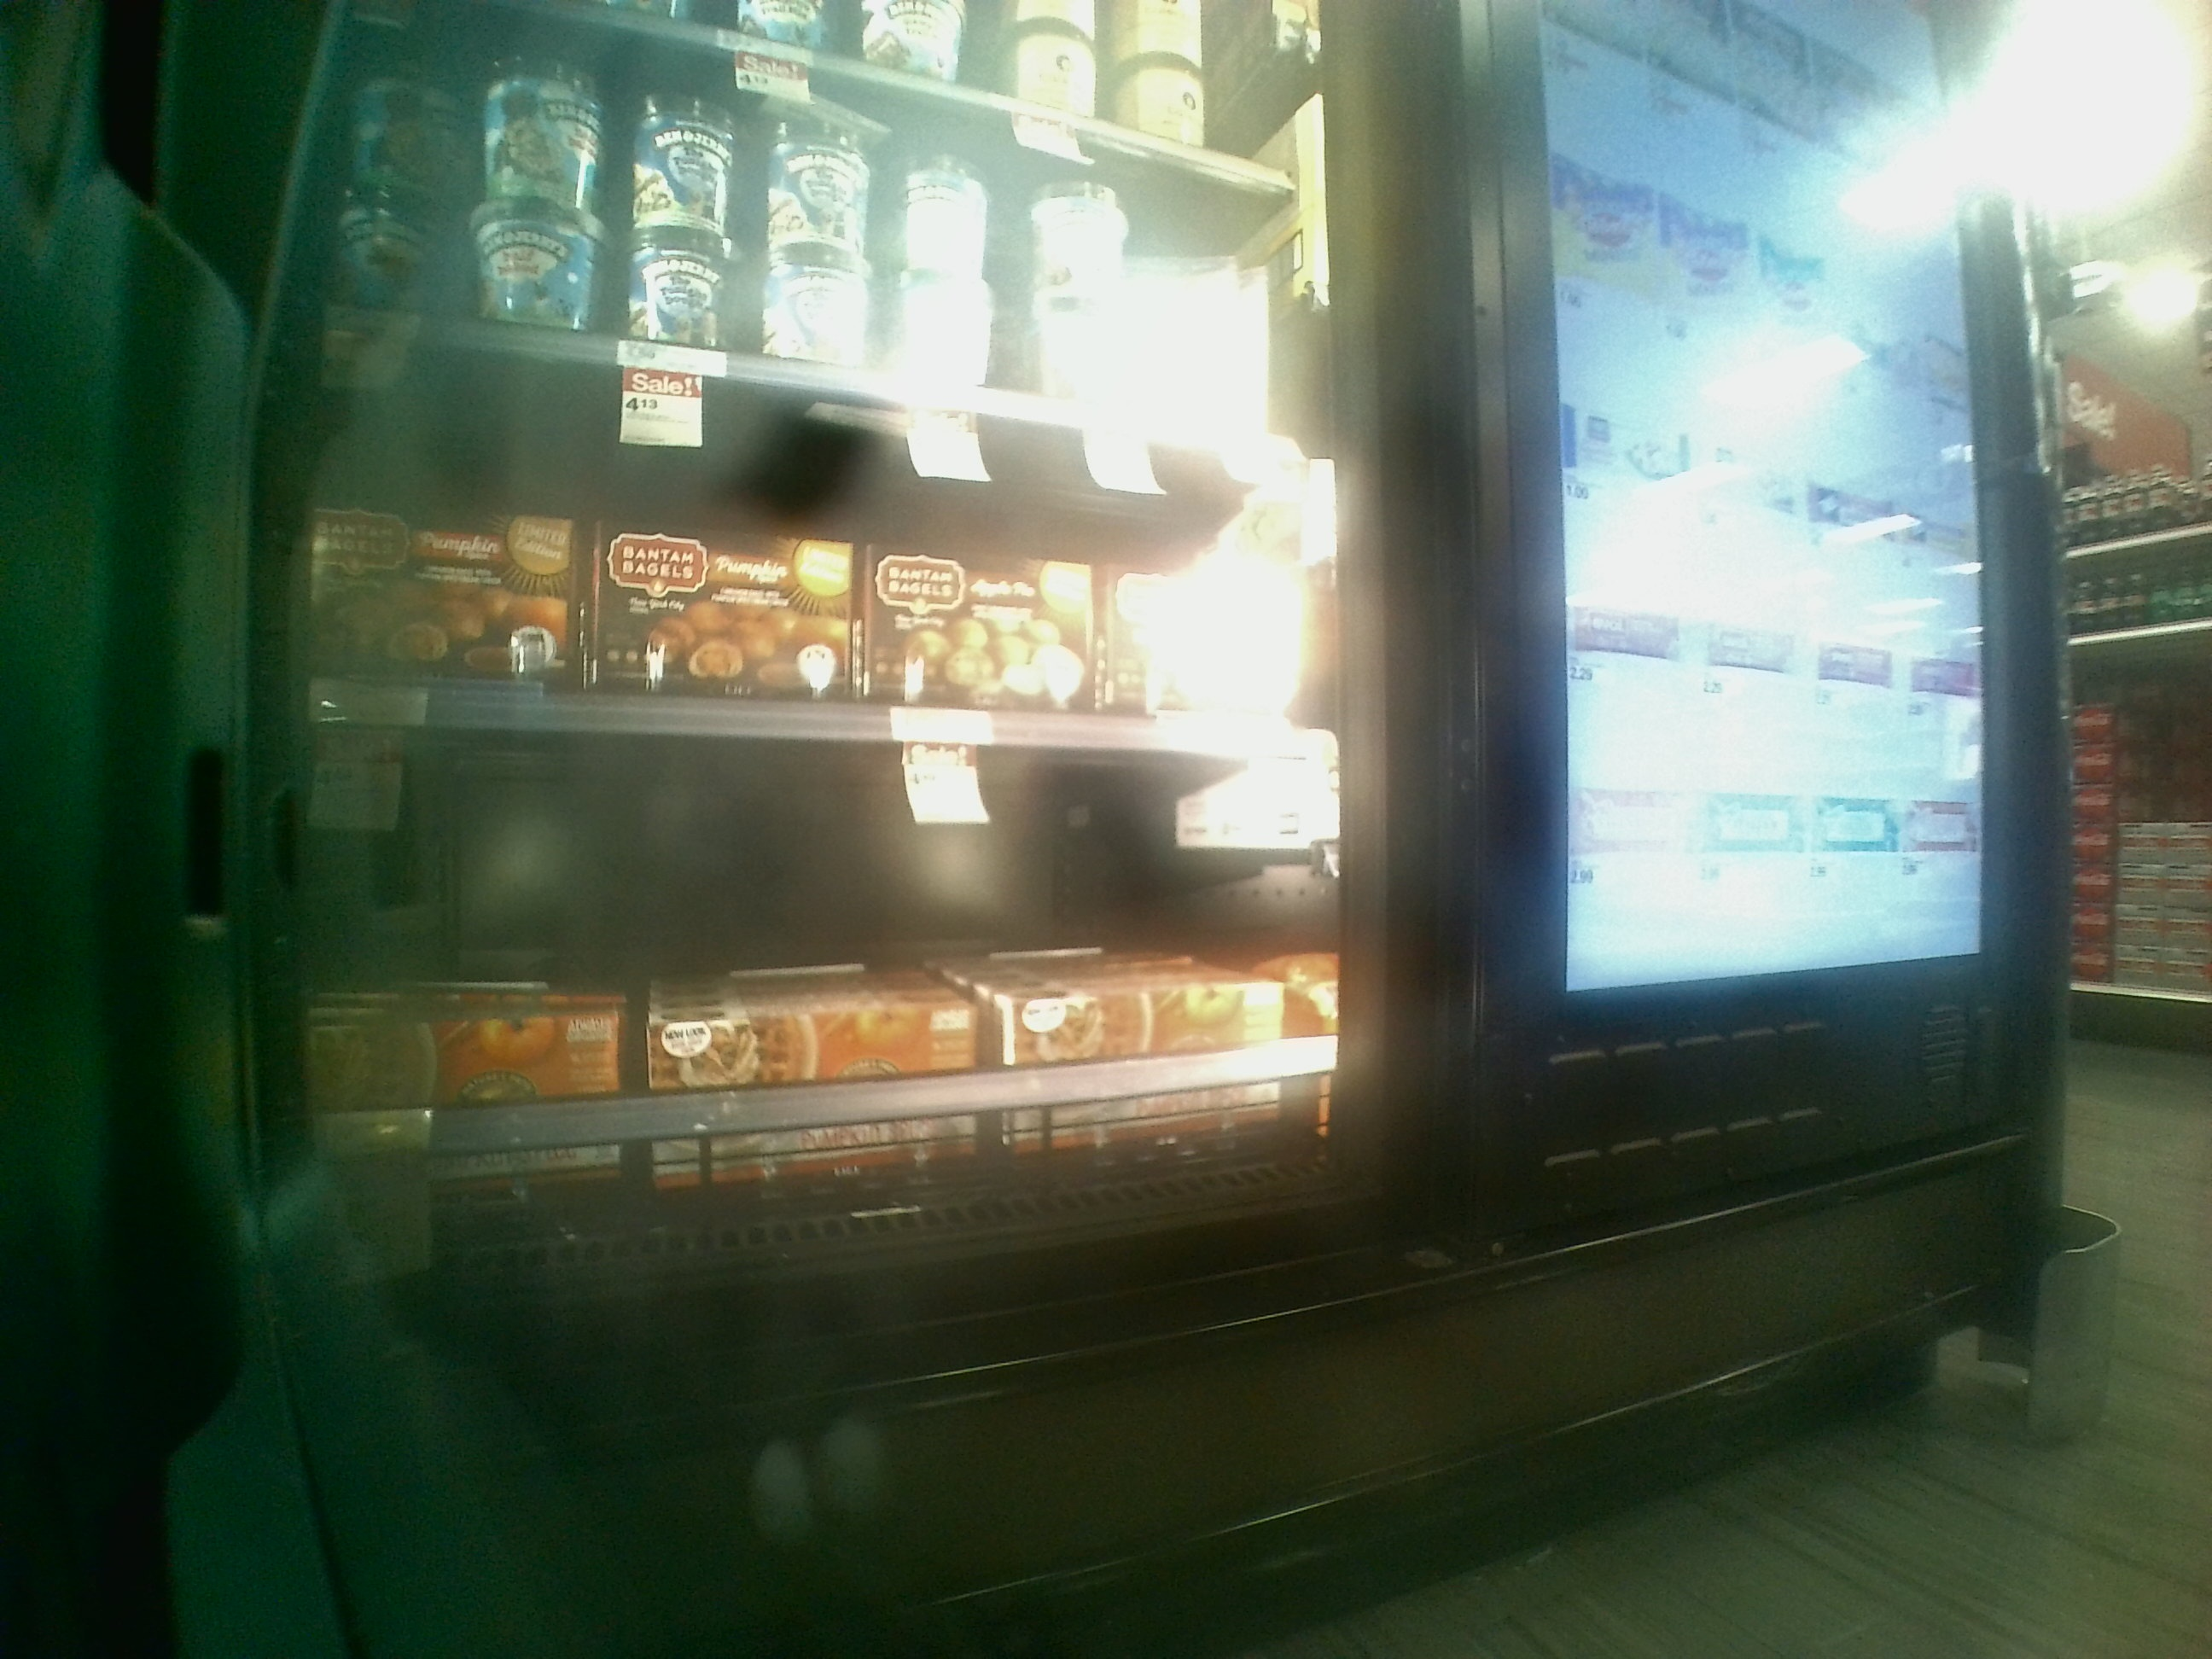shelf: (261, 716, 1390, 1243), (291, 336, 1357, 755)
